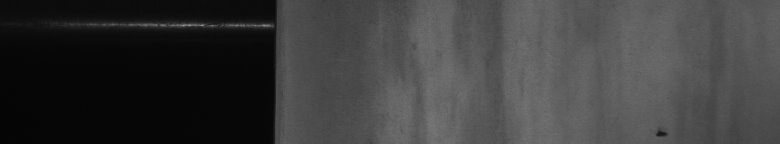fi: (649, 124, 674, 136)
